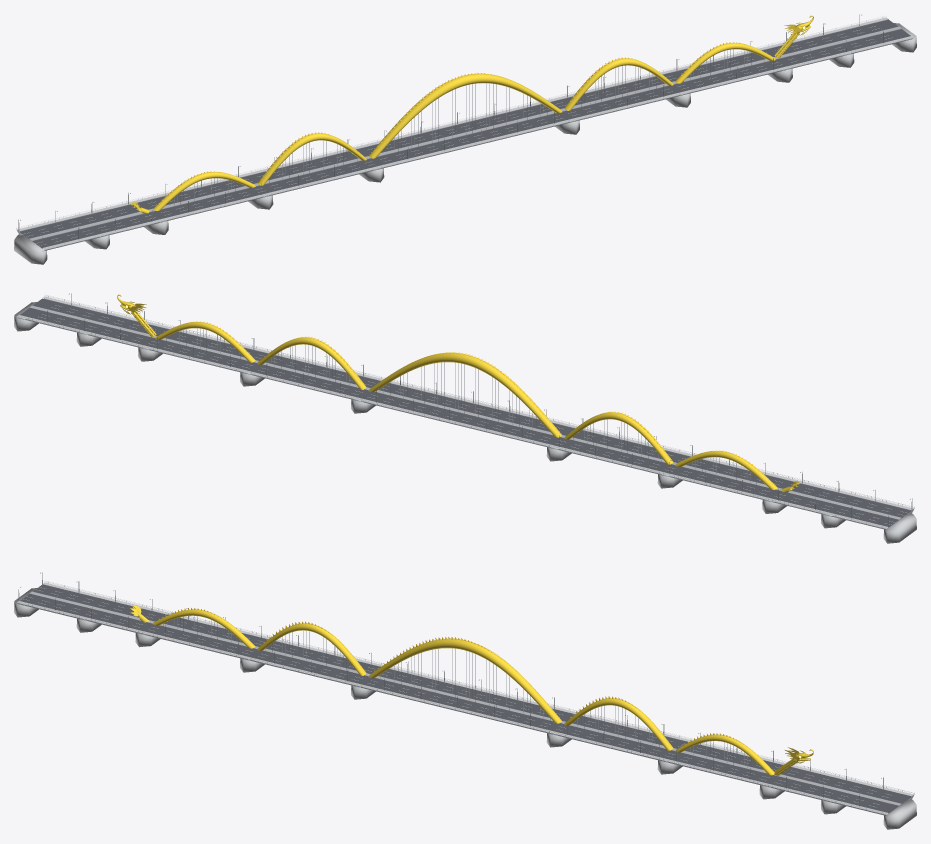
The model's file is cau-rong.glb.
3 views of the same model, one above another, from view 1: azimuth 30°, elevation 25°; view 2: azimuth 150°, elevation 25°; view 3: azimuth 330°, elevation 25° (orthographic).
Parts seen in each view (by area): view 1: cau-rong_roadway, cau-rong_dragon-body-spine, cau-rong_sidewalk, cau-rong_curb, cau-rong_piers, cau-rong_suspension-cables, cau-rong_girder, cau-rong_railings, cau-rong_stripes-white, cau-rong_lamp-posts, cau-rong_dragon-dorsal-fins; view 2: cau-rong_roadway, cau-rong_dragon-body-spine, cau-rong_sidewalk, cau-rong_piers, cau-rong_curb, cau-rong_girder, cau-rong_suspension-cables, cau-rong_railings, cau-rong_stripes-white, cau-rong_lamp-posts, cau-rong_dragon-dorsal-fins; view 3: cau-rong_roadway, cau-rong_dragon-body-spine, cau-rong_sidewalk, cau-rong_curb, cau-rong_piers, cau-rong_suspension-cables, cau-rong_girder, cau-rong_railings, cau-rong_stripes-white, cau-rong_lamp-posts, cau-rong_dragon-dorsal-fins.
Boxes of the visible parts, x1,y1,x2,y2 form: cau-rong_roadway: (19, 19, 910, 248); cau-rong_dragon-body-spine: (153, 43, 775, 210); cau-rong_sidewalk: (17, 17, 913, 249); cau-rong_curb: (19, 19, 913, 250); cau-rong_piers: (14, 23, 916, 264); cau-rong_suspension-cables: (174, 49, 764, 206); cau-rong_girder: (17, 39, 911, 251); cau-rong_railings: (16, 16, 914, 248); cau-rong_stripes-white: (24, 26, 892, 245); cau-rong_lamp-posts: (18, 14, 883, 248); cau-rong_dragon-dorsal-fins: (158, 42, 744, 203); cau-rong_roadway: (20, 298, 911, 526); cau-rong_dragon-body-spine: (155, 322, 777, 489); cau-rong_sidewalk: (17, 296, 913, 528); cau-rong_piers: (14, 302, 916, 543); cau-rong_curb: (29, 305, 901, 527); cau-rong_girder: (19, 298, 913, 530); cau-rong_suspension-cables: (166, 328, 756, 485); cau-rong_railings: (16, 295, 914, 527); cau-rong_stripes-white: (38, 305, 906, 524); cau-rong_lamp-posts: (47, 293, 912, 527); cau-rong_dragon-dorsal-fins: (186, 321, 772, 482); cau-rong_roadway: (20, 584, 911, 813); cau-rong_dragon-body-spine: (153, 609, 774, 775); cau-rong_sidewalk: (17, 582, 913, 814); cau-rong_curb: (17, 584, 911, 815); cau-rong_piers: (14, 588, 916, 829); cau-rong_suspension-cables: (163, 615, 751, 768); cau-rong_girder: (19, 604, 913, 816); cau-rong_railings: (16, 581, 914, 813); cau-rong_stripes-white: (23, 587, 891, 806); cau-rong_lamp-posts: (18, 572, 883, 806); cau-rong_dragon-dorsal-fins: (158, 608, 746, 746).
Size of the model in its own units: 678 by 54.97 by 37.5.
